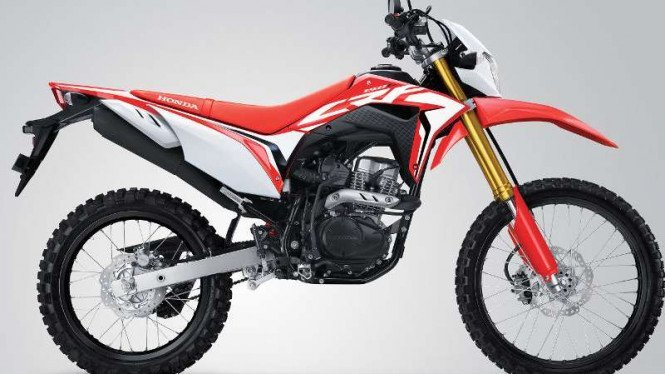motor: (16, 11, 665, 374)
